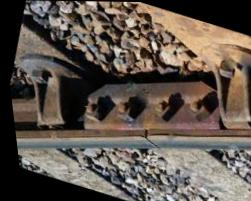person: (122, 118, 171, 164)
